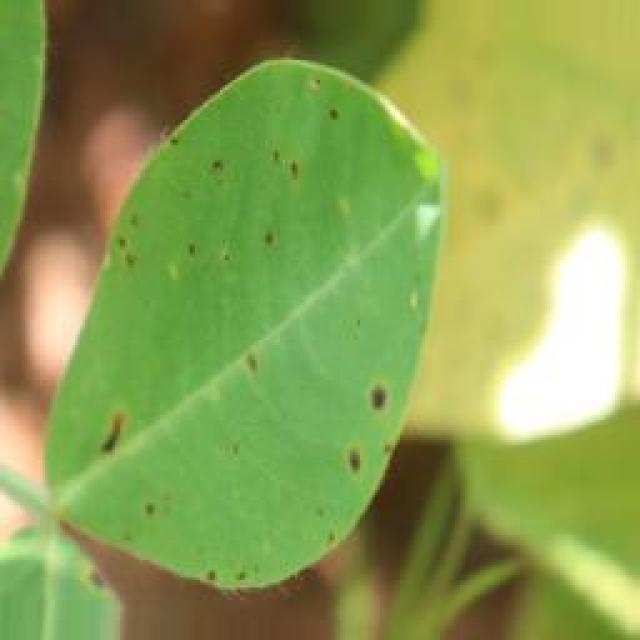Sigatoka: (82, 211, 163, 292), (158, 128, 236, 190), (311, 419, 374, 492), (310, 501, 354, 576), (297, 85, 362, 134), (196, 549, 264, 593), (262, 124, 303, 193), (87, 413, 132, 469), (349, 371, 399, 420), (253, 218, 290, 275), (244, 346, 271, 392), (178, 242, 216, 274), (130, 487, 160, 524)
